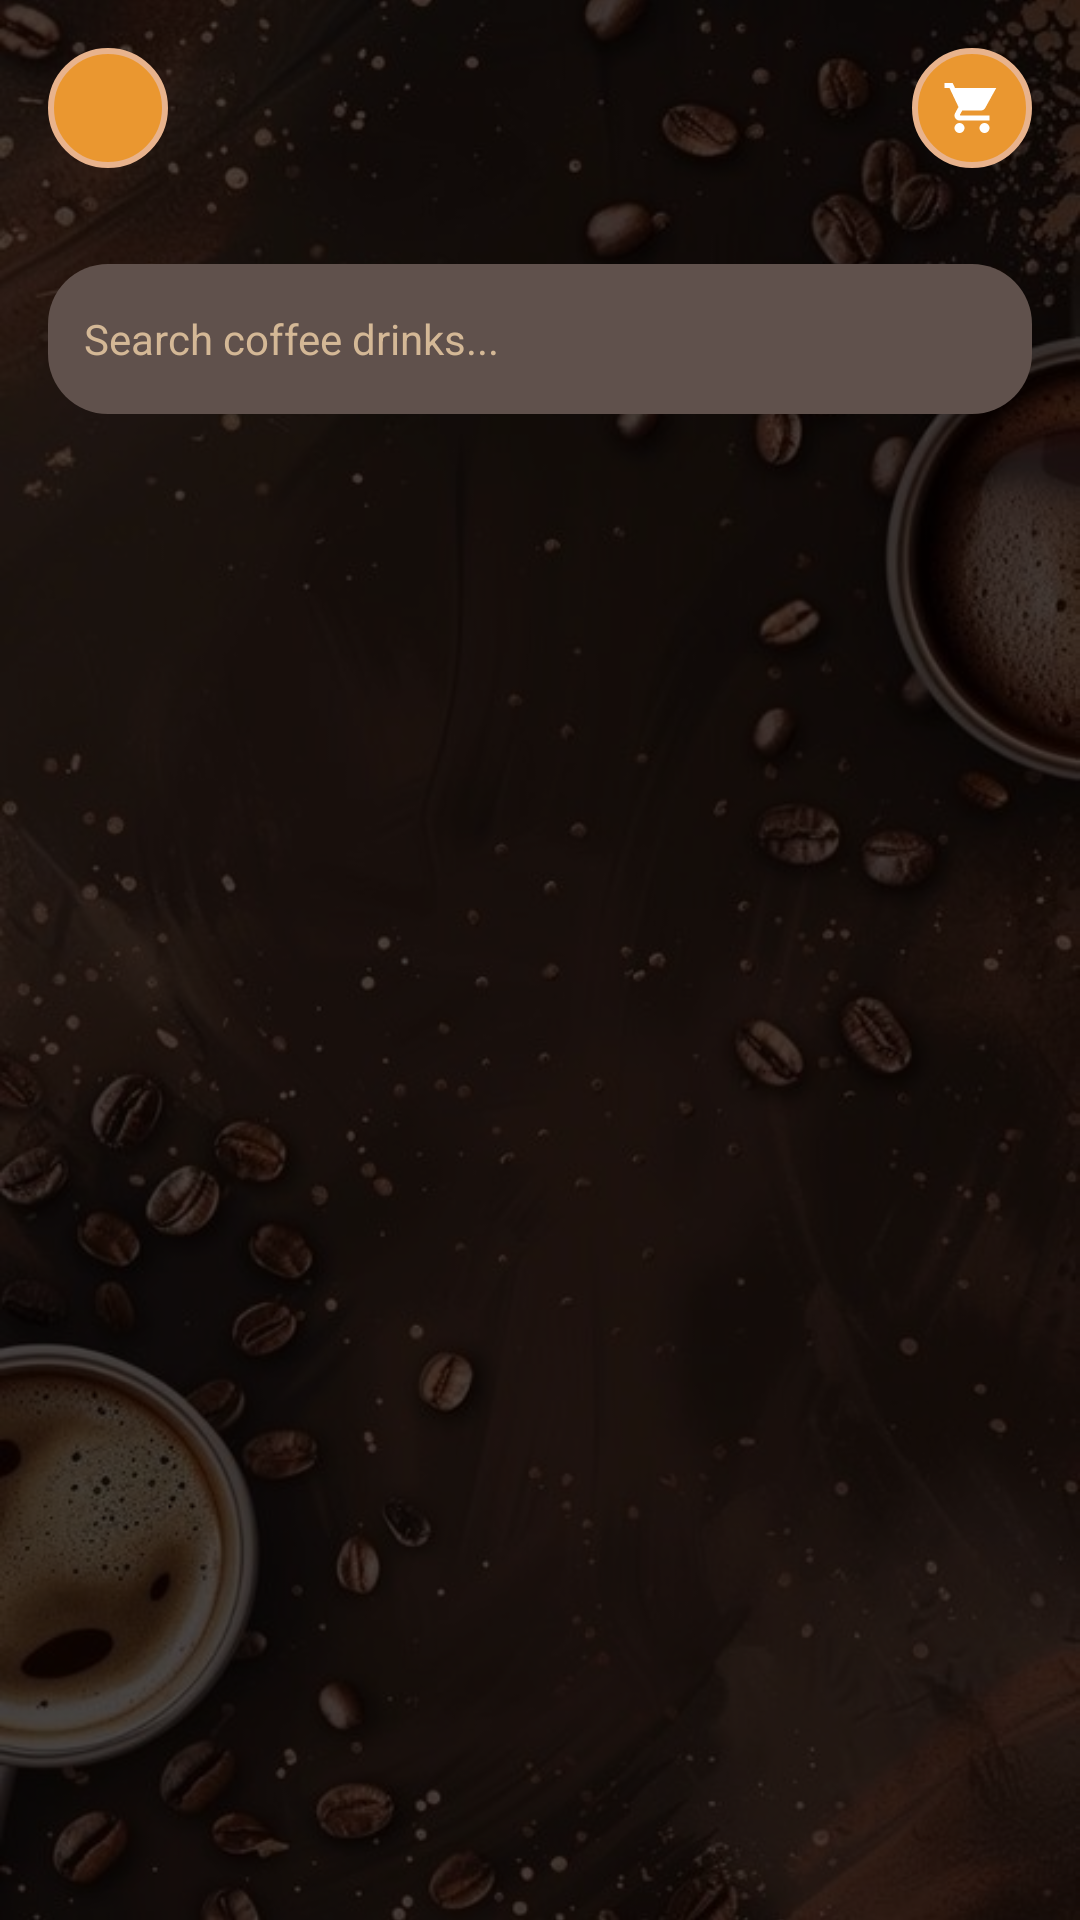

Locate icon controls on the screen. Image size 1080 x 1920, boxes as region(x1, y1, x2, y2).
cart: region(912, 48, 1032, 168)
